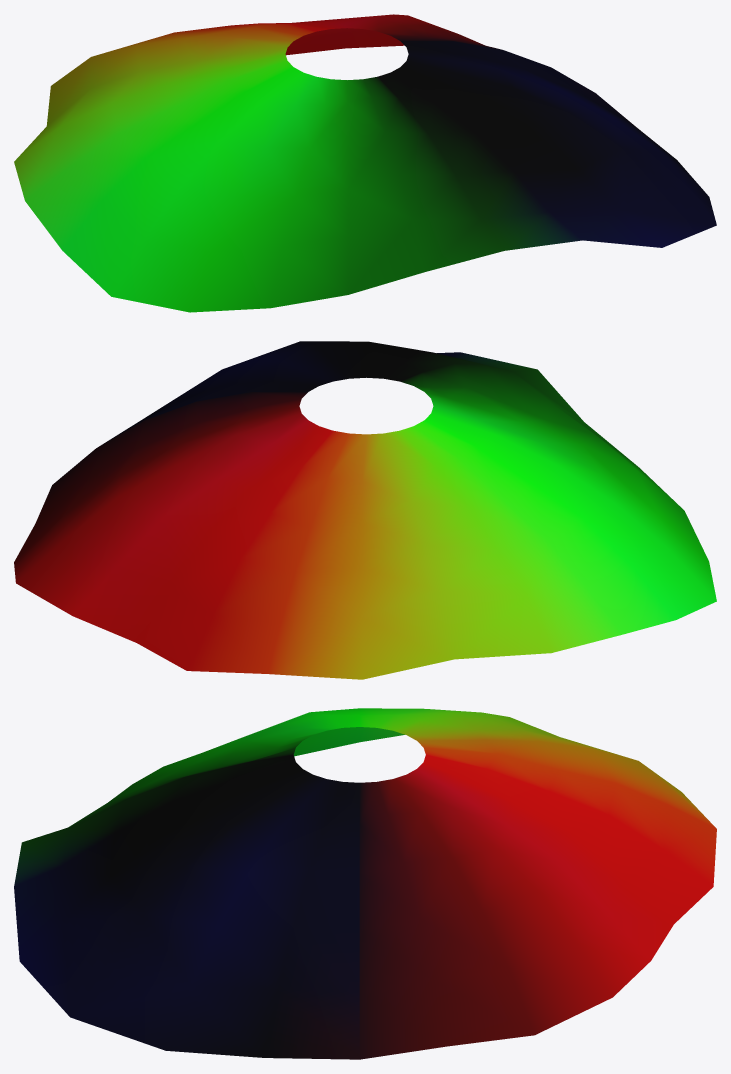
The model's file is uni_dome_broken.fbx.
The picture shows the model from 3 angles, top to bottom: view 1: azimuth 30°, elevation 25°; view 2: azimuth 150°, elevation 25°; view 3: azimuth 270°, elevation 25°; orthographic projection. The views are drawn at different scales.
Parts seen in each view (by area): view 1: uni_dome_broken; view 2: uni_dome_broken; view 3: uni_dome_broken.
Boxes of the visible parts, bbox=[...] form: uni_dome_broken: bbox=[14, 14, 716, 312]; uni_dome_broken: bbox=[14, 341, 716, 679]; uni_dome_broken: bbox=[14, 708, 716, 1059].
Bounding box in the file's own units: 13331 × 13478 × 3212.
